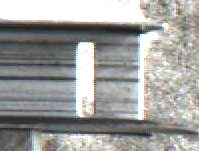40ngpress: (43, 20, 159, 132)
